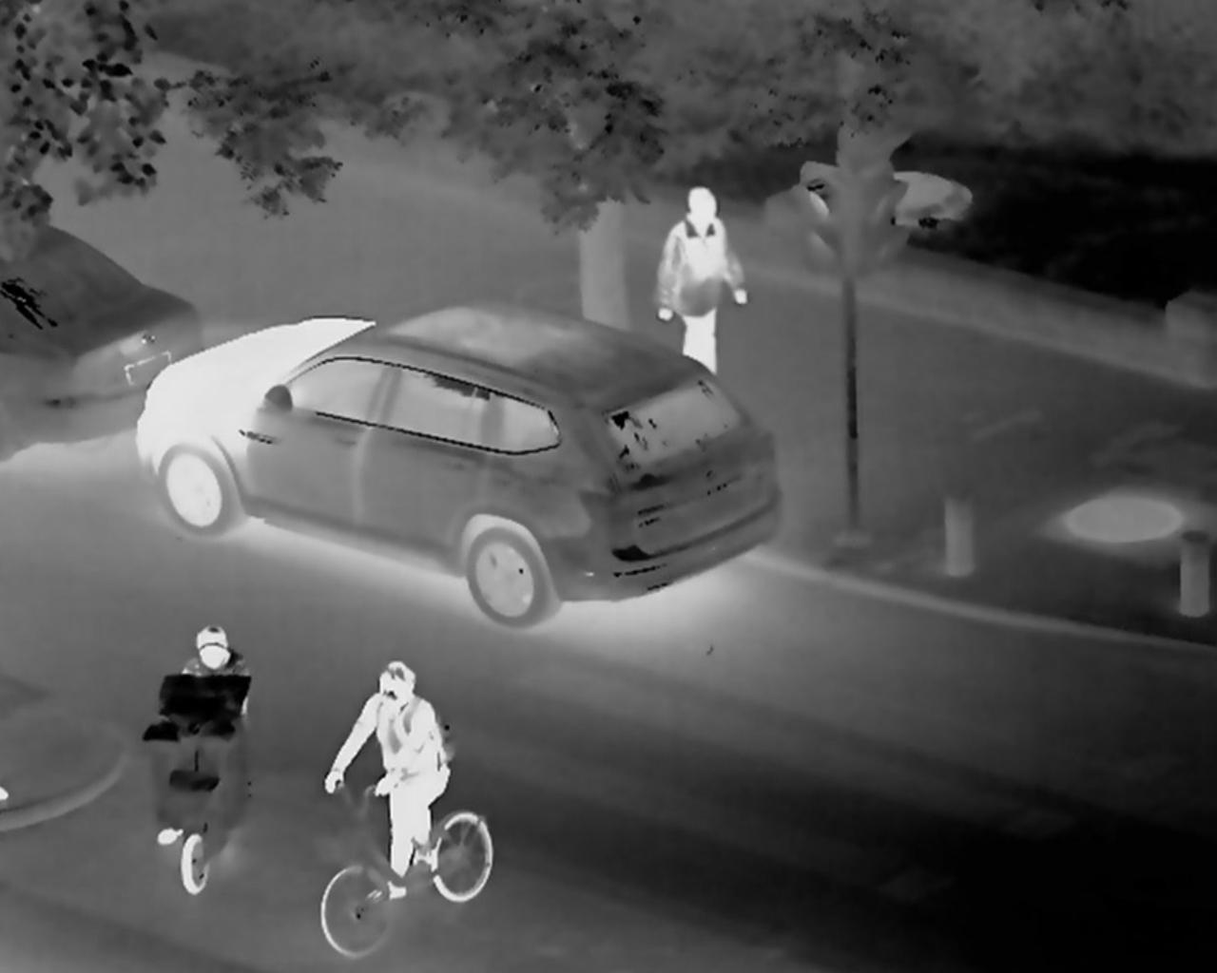person: (324, 662, 453, 895), (155, 623, 252, 843), (659, 188, 751, 384)
